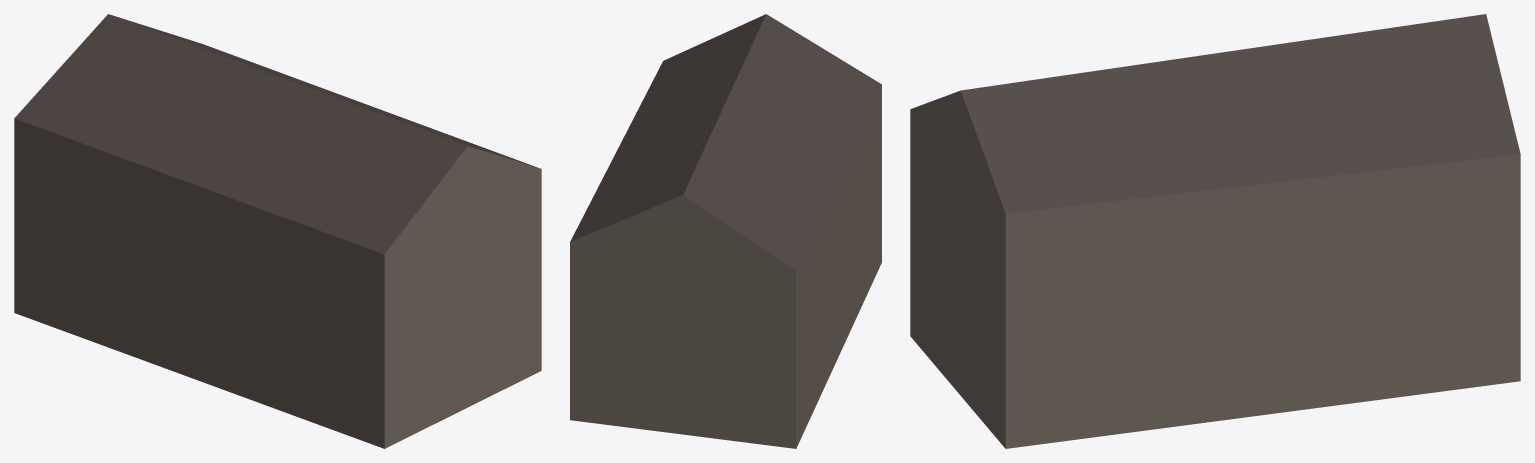
The picture shows the model from 3 angles, left to right: view 1: azimuth 30°, elevation 25°; view 2: azimuth 150°, elevation 25°; view 3: azimuth 270°, elevation 25°; orthographic projection. The views are drawn at different scales.
Parts seen in each view (by area): view 1: HP-w1376988830; view 2: HP-w1376988830; view 3: HP-w1376988830.
Part boxes in pixels (bbox=[...]): HP-w1376988830: bbox=[14, 14, 541, 448]; HP-w1376988830: bbox=[570, 14, 881, 448]; HP-w1376988830: bbox=[910, 14, 1520, 448].
Bounding box in the file's own units: 10.86 × 8.07 × 14.62.
